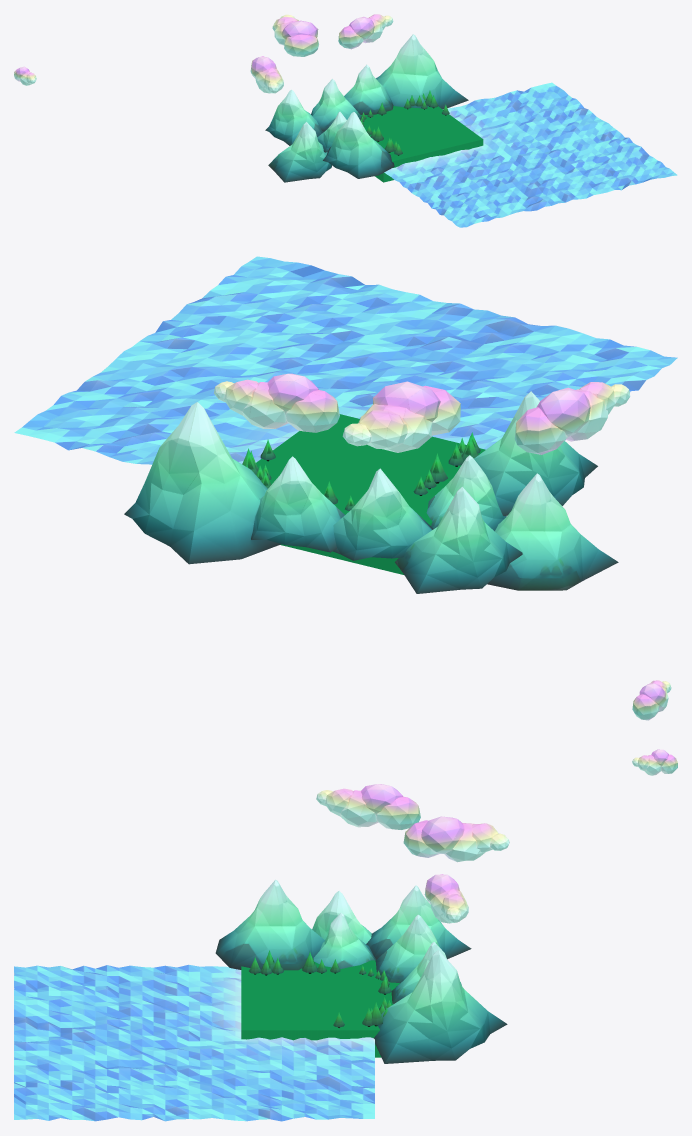
3 renders of one model, top to bottom at view 1: azimuth 30°, elevation 25°; view 2: azimuth 150°, elevation 25°; view 3: azimuth 270°, elevation 25°, orthographic. The views are drawn at different scales.
Parts seen in each view (by area): view 1: SHUIMIAN, PINGTAI, 柱体.003, 柱体.002, 柱体.006, 柱体.001, yun.001, 柱体, yun.002, 柱体.004, yun.003, 柱体.005; view 2: SHUIMIAN, 柱体.003, PINGTAI, 柱体.006, 柱体.001, yun.001, 柱体.002, 柱体, 柱体.004, yun.002, yun.003, 柱体.005 (+1 smaller); view 3: SHUIMIAN, PINGTAI, 柱体.003, 柱体.002, yun.001, yun.003, 柱体.001, 柱体.004, 柱体.005, yun.002, 柱体.006, yun (+1 smaller).
Boxes of the visible parts, x1,y1,x2,y2 form: SHUIMIAN: (384, 82, 677, 227); PINGTAI: (361, 106, 483, 182); 柱体.003: (376, 34, 468, 109); 柱体.002: (323, 112, 394, 178); 柱体.006: (268, 122, 331, 182); 柱体.001: (265, 89, 324, 145); yun.001: (272, 14, 318, 56); 柱体: (344, 64, 393, 114); yun.002: (338, 14, 393, 49); 柱体.004: (311, 79, 361, 131); yun.003: (250, 56, 283, 93); 柱体.005: (317, 111, 346, 152); SHUIMIAN: (14, 256, 677, 464); 柱体.003: (124, 402, 281, 564); PINGTAI: (256, 414, 485, 574); 柱体.006: (487, 473, 618, 590); 柱体.001: (395, 486, 522, 593); yun.001: (342, 381, 460, 452); 柱体.002: (474, 391, 597, 515); 柱体: (251, 456, 344, 552); 柱体.004: (333, 468, 433, 560); yun.002: (213, 373, 339, 432); yun.003: (514, 382, 630, 454); 柱体.005: (426, 455, 506, 531); SHUIMIAN: (14, 964, 374, 1121); PINGTAI: (241, 960, 399, 1057); 柱体.003: (374, 950, 507, 1063); 柱体.002: (215, 879, 324, 970); yun.001: (403, 816, 509, 862); yun.003: (316, 784, 420, 829); 柱体.001: (366, 885, 471, 959); 柱体.004: (375, 914, 439, 982); 柱体.005: (313, 912, 376, 968); yun.002: (424, 874, 468, 923); 柱体.006: (312, 891, 371, 943); yun: (632, 749, 677, 775).
Size of the model in its own units: 48.02 by 11.68 by 44.15.
Materials: 5 (5 with a texture image).
